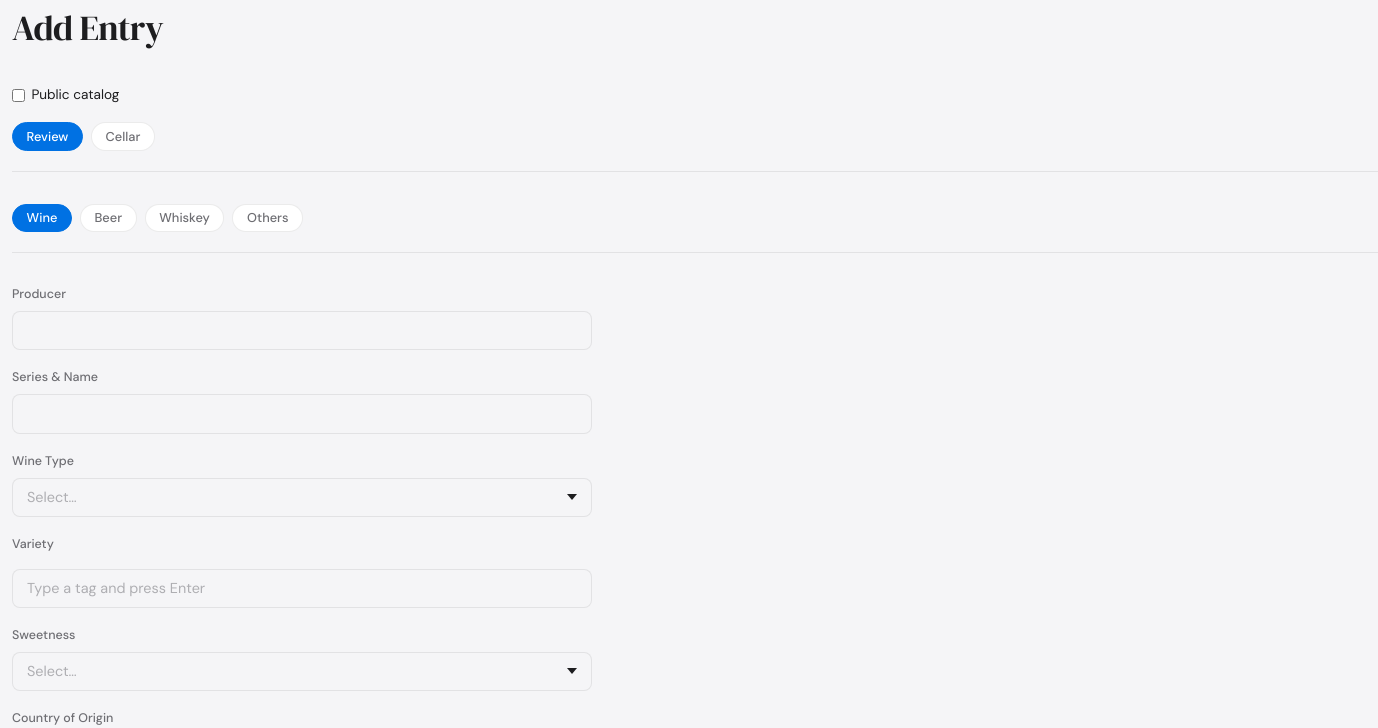
Test: select field renders for wine type
Step 1. Click the button named "wine type" → point(52, 497), box [12,478,592,517]
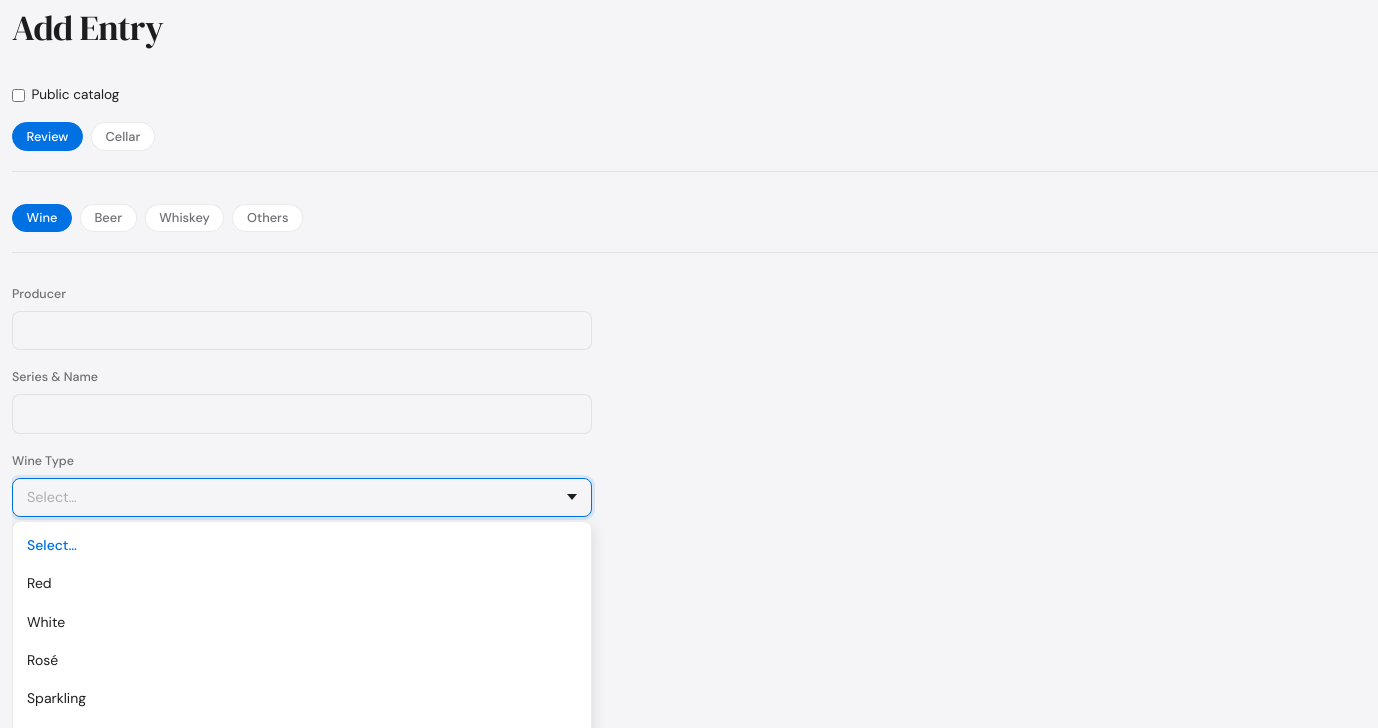
Check: the list item "Red" is shown, box [27,574,52,592]
